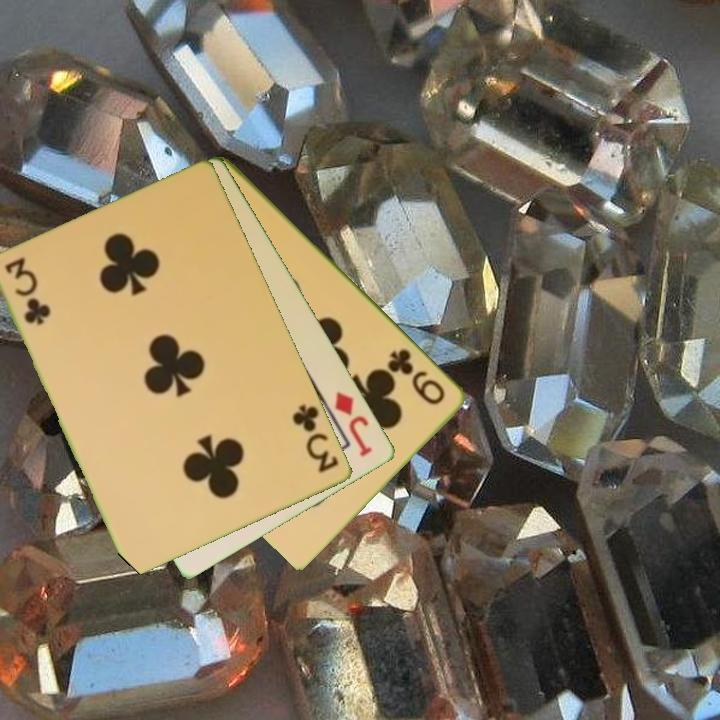3c: (289, 401, 342, 476), (2, 254, 52, 328)
9c: (385, 345, 449, 408)
Jd: (331, 387, 376, 460)
